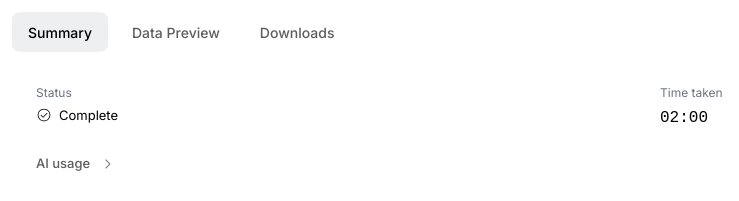
it: ResultsView — P4 › a run identifier is required before preparing the template
Click the button "Downloads" at (297, 32), box [244,12,350,52]
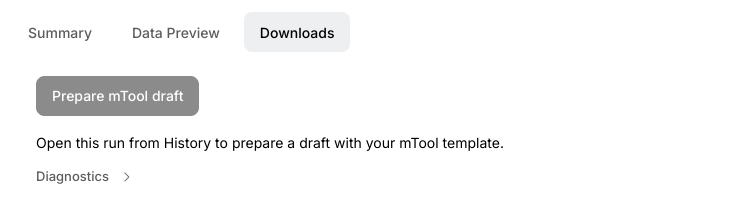
Check: the button "Prepare mTool draft" is disabled, box [36,76,199,116]
